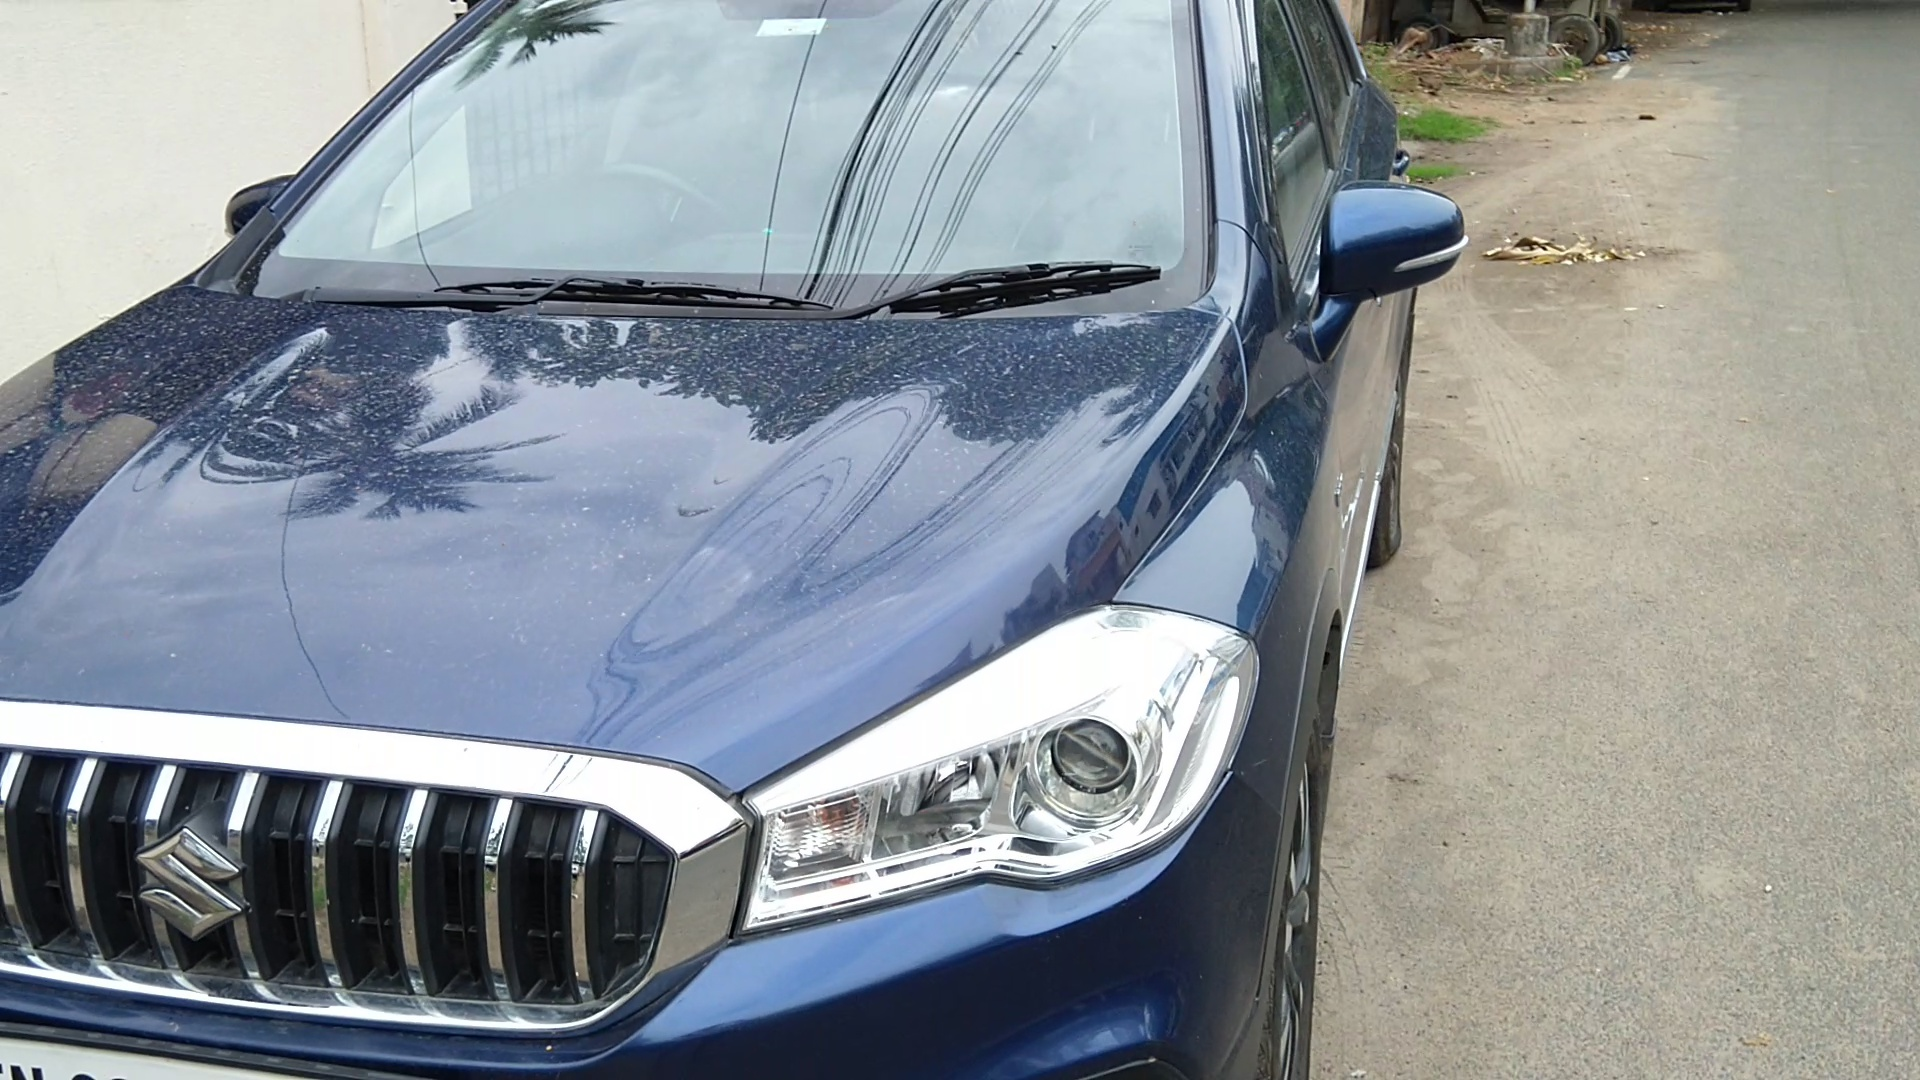front_grill: (3, 684, 746, 1040)
headlamp: (750, 587, 1282, 952)
ovr_mirror: (1320, 175, 1473, 309)
